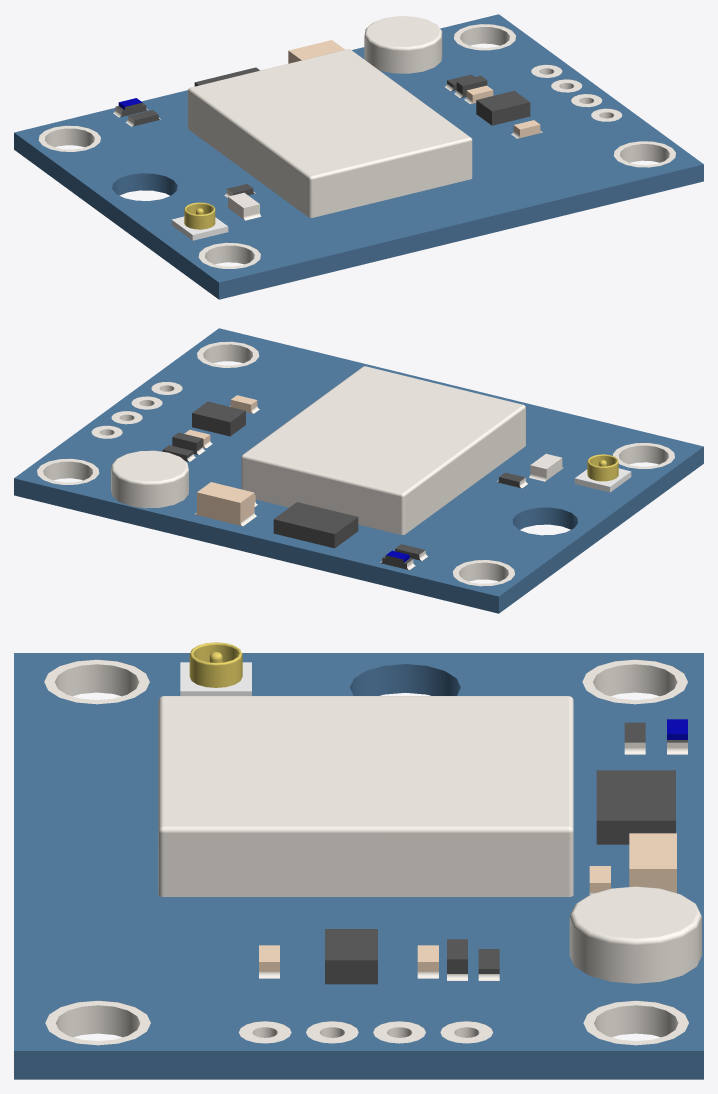
The picture shows the model from 3 angles, top to bottom: view 1: azimuth 30°, elevation 25°; view 2: azimuth 150°, elevation 25°; view 3: azimuth 270°, elevation 25°; orthographic projection. The views are drawn at different scales.
Parts seen in each view (by area): view 1: mesh11, mesh26, mesh13, mesh18, mesh17, mesh12, mesh10, mesh8, mesh16, mesh25, mesh133, mesh136 (+11 smaller); view 2: mesh11, mesh26, mesh15, mesh20, mesh17, mesh12, mesh10, mesh8, mesh38, mesh16, mesh119, mesh37 (+14 smaller); view 3: mesh11, mesh26, mesh19, mesh14, mesh10, mesh8, mesh38, mesh30, mesh16, mesh133, mesh142, mesh136 (+19 smaller).
Part boxes in pixels (left/top/right/bottom): mesh11: left=14, top=14, right=703, bottom=282; mesh26: left=191, top=49, right=468, bottom=175; mesh13: left=219, top=164, right=703, bottom=299; mesh18: left=313, top=141, right=470, bottom=217; mesh17: left=188, top=91, right=308, bottom=216; mesh12: left=14, top=133, right=218, bottom=299; mesh10: left=364, top=34, right=442, bottom=73; mesh8: left=367, top=16, right=438, bottom=46; mesh16: left=112, top=173, right=177, bottom=195; mesh25: left=311, top=137, right=470, bottom=179; mesh133: left=45, top=128, right=94, bottom=147; mesh136: left=205, top=245, right=254, bottom=264; mesh11: left=14, top=328, right=703, bottom=596; mesh26: left=244, top=366, right=522, bottom=492; mesh15: left=14, top=478, right=498, bottom=613; mesh20: left=243, top=458, right=400, bottom=534; mesh17: left=405, top=409, right=525, bottom=533; mesh12: left=499, top=447, right=703, bottom=613; mesh10: left=111, top=467, right=188, bottom=508; mesh8: left=114, top=451, right=185, bottom=481; mesh38: left=274, top=502, right=357, bottom=533; mesh16: left=512, top=507, right=577, bottom=529; mesh119: left=195, top=492, right=242, bottom=526; mesh37: left=273, top=519, right=334, bottom=548; mesh11: left=14, top=653, right=703, bottom=1050; mesh26: left=163, top=696, right=568, bottom=826; mesh19: left=163, top=833, right=568, bottom=896; mesh14: left=14, top=1051, right=703, bottom=1079; mesh10: left=569, top=918, right=701, bottom=983; mesh8: left=575, top=887, right=696, bottom=938; mesh38: left=596, top=770, right=675, bottom=820; mesh30: left=163, top=826, right=568, bottom=833; mesh16: left=350, top=664, right=460, bottom=695; mesh133: left=593, top=664, right=677, bottom=696; mesh142: left=594, top=1005, right=678, bottom=1037; mesh136: left=55, top=664, right=139, bottom=696.
Bounding box in the file's own units: 0.0356 × 0.00406 × 0.0261.
